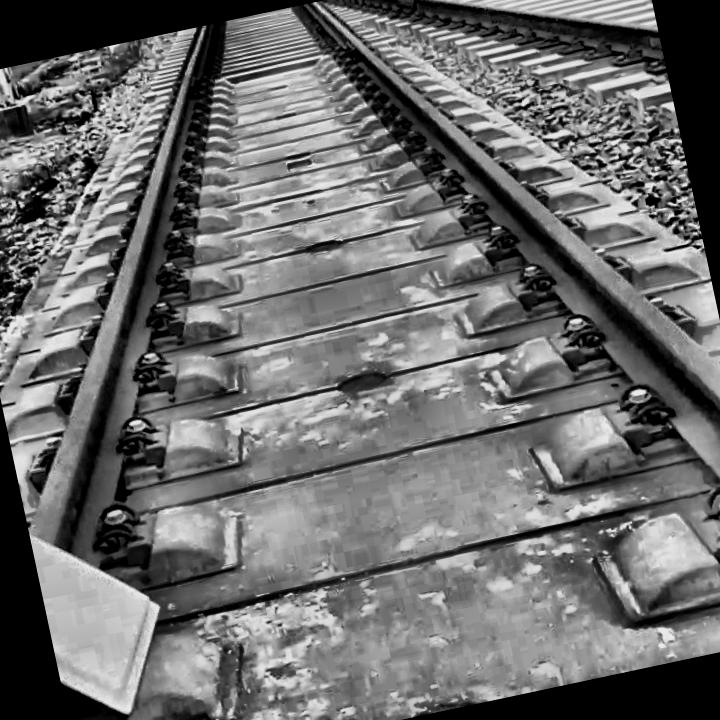Trash: (29, 507, 197, 720)
